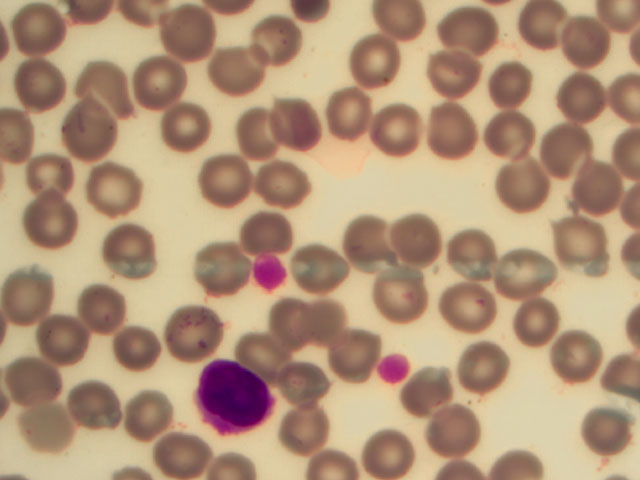Platelets: (251, 254, 293, 289), (381, 355, 410, 383)
RBC: (10, 3, 68, 57), (13, 50, 71, 104), (60, 111, 118, 165), (72, 62, 130, 116), (130, 58, 188, 112), (202, 41, 260, 95), (247, 12, 305, 66), (267, 95, 325, 149), (223, 106, 281, 160), (191, 151, 249, 205), (153, 101, 211, 155), (254, 159, 312, 213), (239, 207, 297, 261), (186, 233, 244, 287), (107, 229, 165, 283), (85, 160, 143, 214), (32, 194, 90, 248), (19, 144, 77, 198), (2, 257, 60, 311), (33, 305, 91, 359), (81, 274, 139, 328), (104, 314, 162, 368), (69, 380, 127, 434), (32, 396, 90, 450), (5, 345, 63, 399), (159, 300, 217, 354), (133, 386, 191, 440), (157, 419, 215, 473), (269, 403, 327, 457), (277, 366, 335, 420), (249, 334, 307, 388), (264, 304, 322, 358), (296, 294, 354, 348), (294, 242, 352, 296), (346, 220, 404, 274), (387, 211, 445, 265), (376, 267, 434, 321), (439, 229, 497, 283), (448, 285, 506, 339), (510, 255, 568, 309), (549, 215, 607, 269), (504, 167, 562, 221), (495, 110, 553, 164), (434, 110, 492, 164), (363, 103, 421, 157), (308, 73, 366, 127), (345, 35, 403, 89), (371, 6, 429, 60), (436, 42, 494, 96), (444, 7, 502, 61), (485, 62, 543, 116), (518, 4, 576, 58), (557, 18, 615, 72), (559, 66, 617, 120), (543, 126, 601, 180), (564, 162, 622, 216), (554, 324, 612, 378), (513, 300, 571, 354), (457, 350, 515, 404), (417, 363, 475, 417), (426, 400, 484, 454), (372, 426, 430, 480), (582, 403, 640, 457), (159, 1, 217, 54), (304, 446, 358, 480)
WBC: (196, 357, 274, 439)
